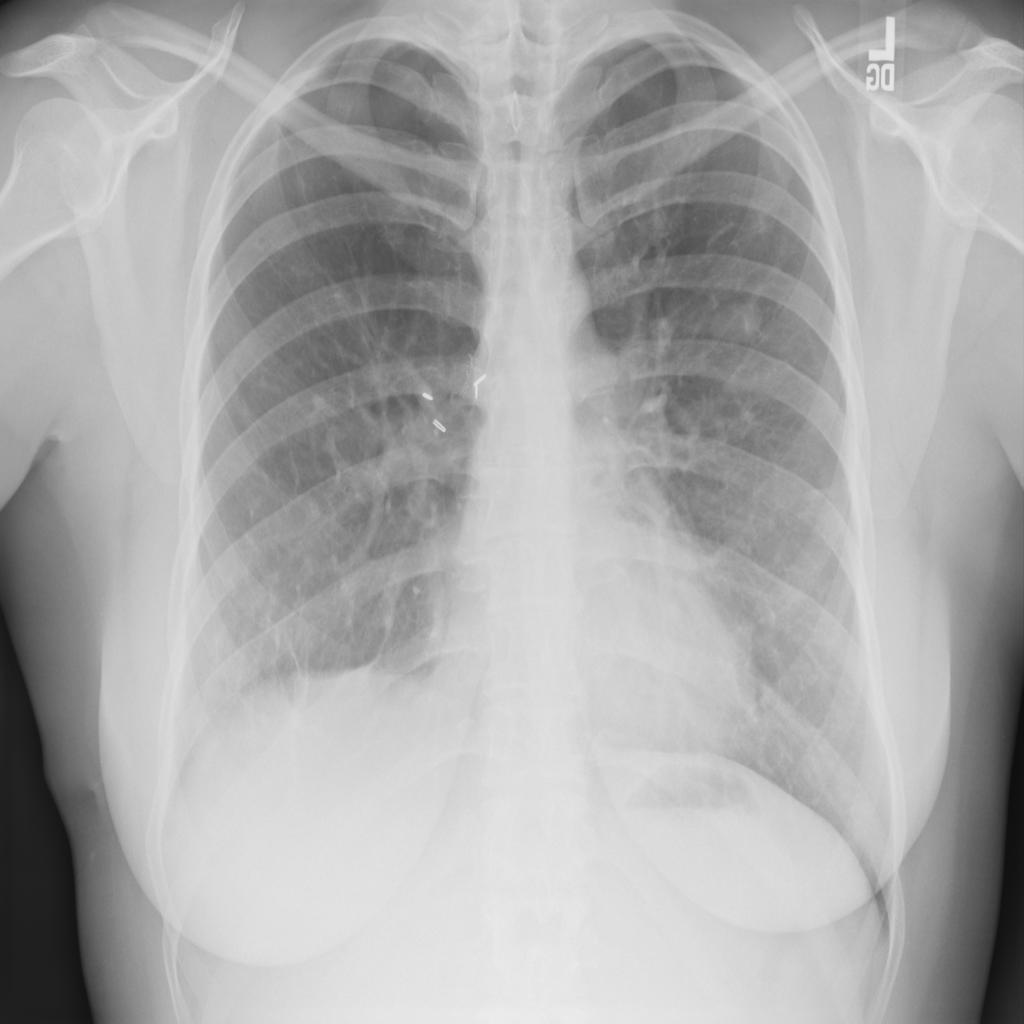nodule: (706, 285, 776, 359)
